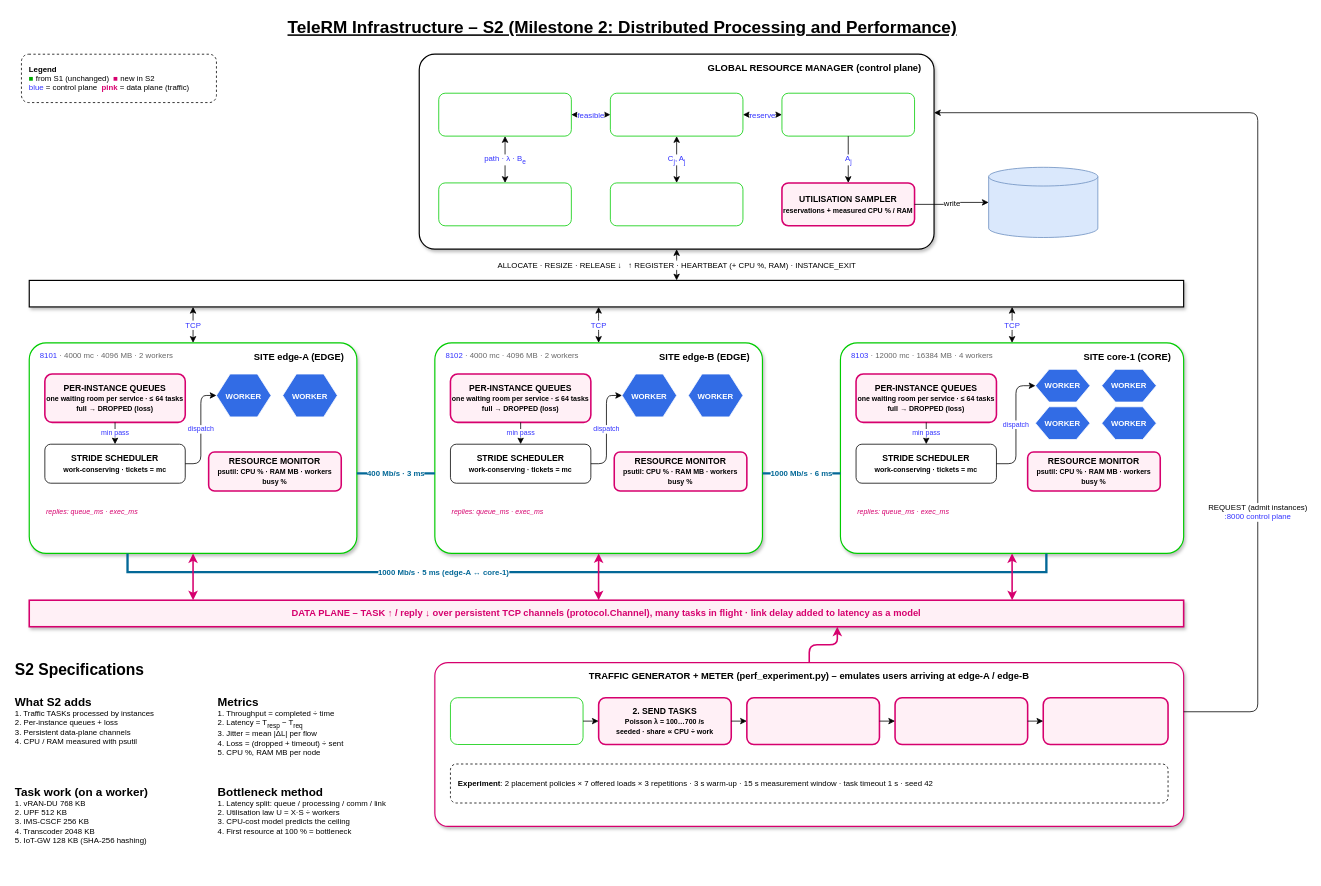
This 1321x886 diagram has some shape labels left out. The centre of each missing label's shape, as x and y in pixels:
1. ADMIT 10 instances via REQUEST (control plane, port 8000): pixel 516 721
3. TIME EACH TASK latency = T resp − T req + 2 × link delay: pixel 813 721
4. COMPUTE METRICS throughput · latency · jitter loss · CPU · RAM: pixel 961 721
5. ANALYZE analyze.py → charts, bottleneck tables: pixel 1105 721
ADMISSION CONTROL capacity · link bw · latency: pixel 504 114
ALLOCATION TABLE S00001… · node + path · address: pixel 848 114
CONTROL PLANE – TCP, one connection per message (protocol.call): pixel 607 294
PLACEMENT POLICY edge_first · least_loaded · best_fit: pixel 676 114
runs.csv tasks.csv · run.json charts/ · summary.md: pixel 1043 202
SITE REGISTRY C j , A j · heartbeat detector: pixel 676 204
TOPOLOGY + LINKS Dijkstra paths · B e reservations: pixel 504 204
